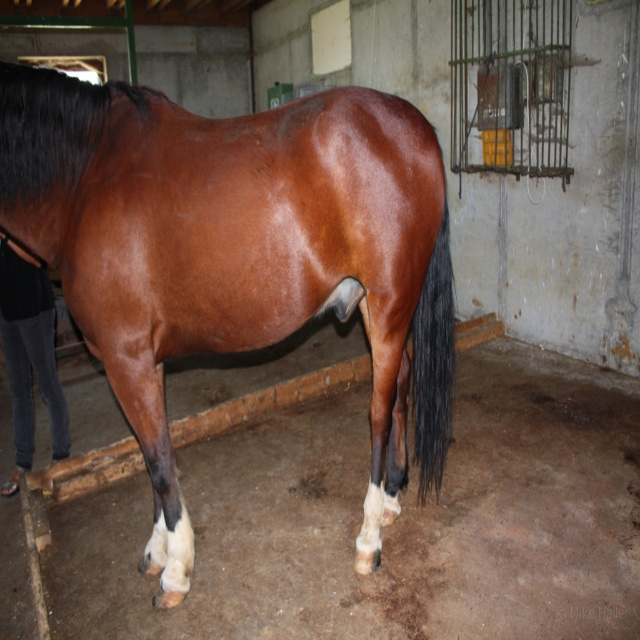Horse: (1, 26, 460, 615)
